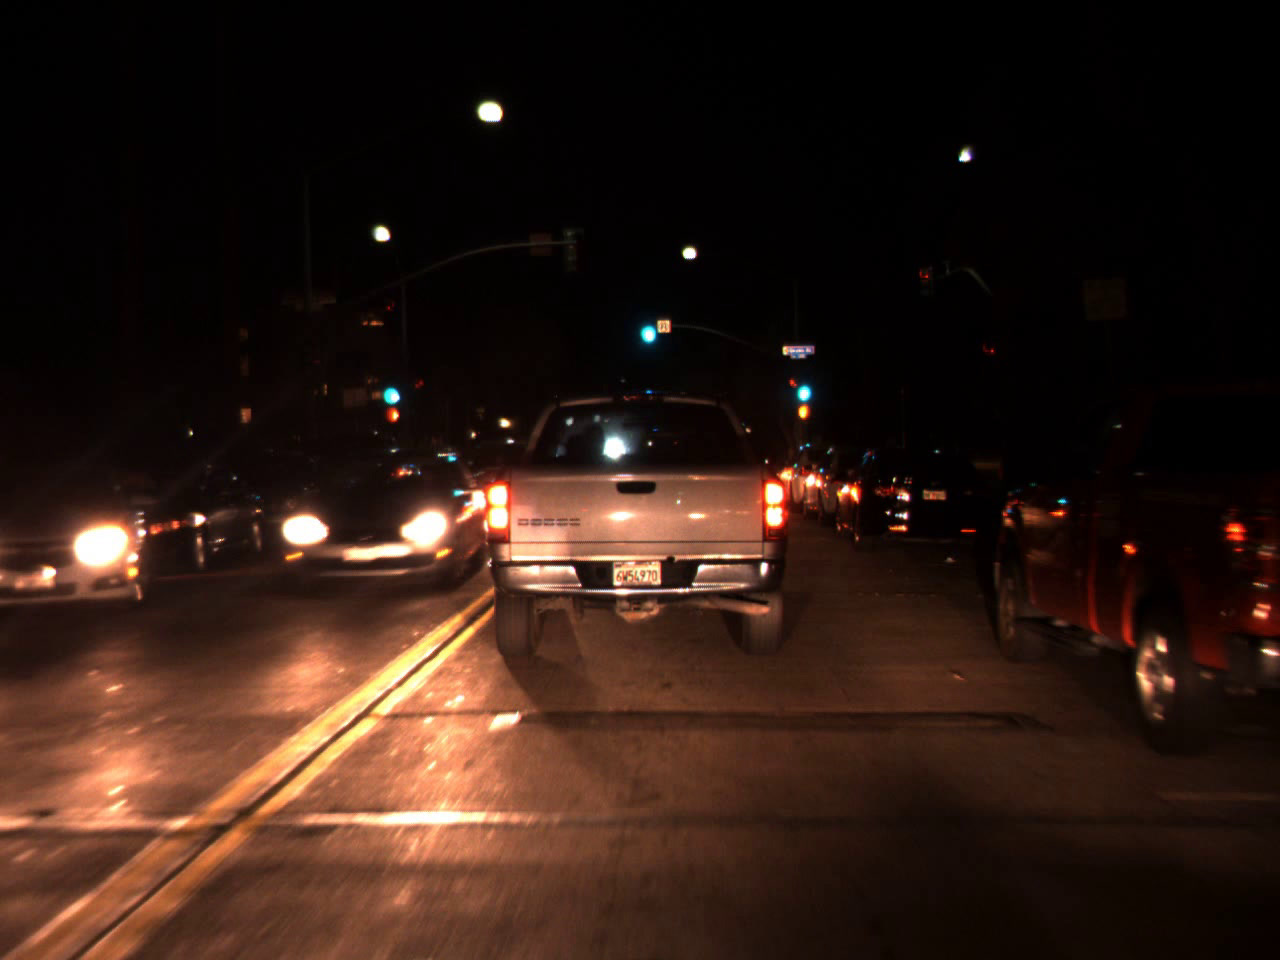go: (635, 304, 658, 349), (792, 365, 813, 407), (378, 369, 399, 408)
